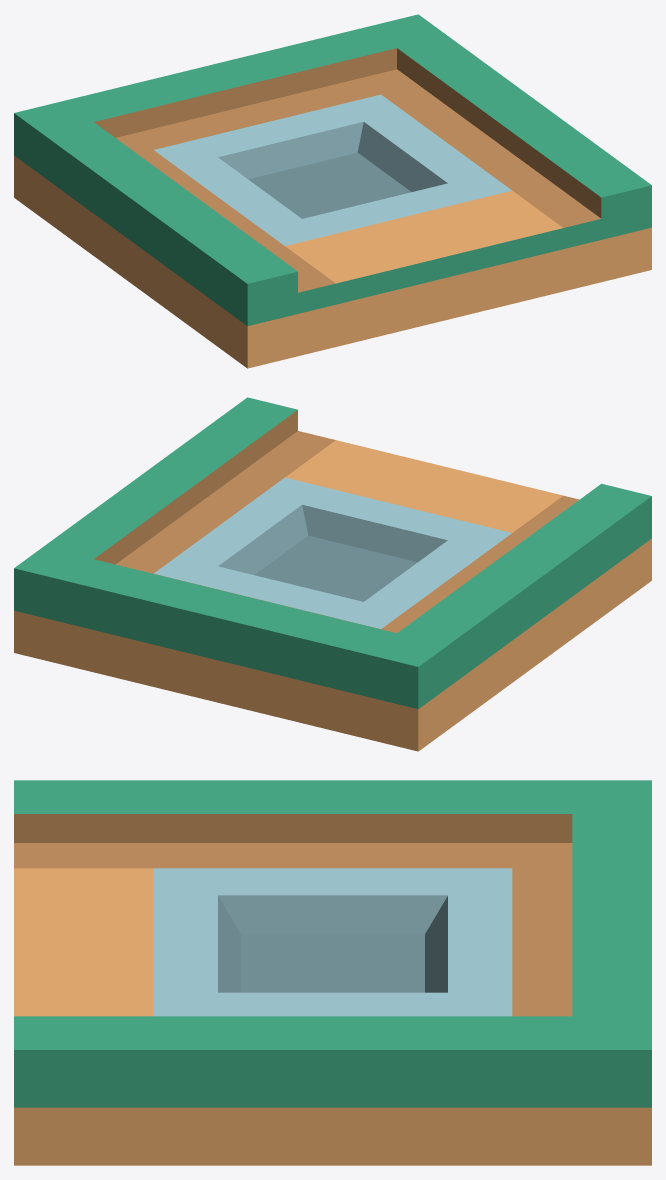
File: tile_endSpawn.dae
3 views of the same model, one above another, from view 1: azimuth 30°, elevation 25°; view 2: azimuth 150°, elevation 25°; view 3: azimuth 270°, elevation 25° (orthographic). The views are drawn at different scales.
Visible parts, largest first — view 1: tile_endSpawn; view 2: tile_endSpawn; view 3: tile_endSpawn.
Part boxes in pixels (x1,y1,x2,y2): tile_endSpawn: (14, 14, 651, 368); tile_endSpawn: (14, 397, 651, 751); tile_endSpawn: (14, 780, 651, 1165).
Size of the model in its own units: 1 by 0.2 by 1.
